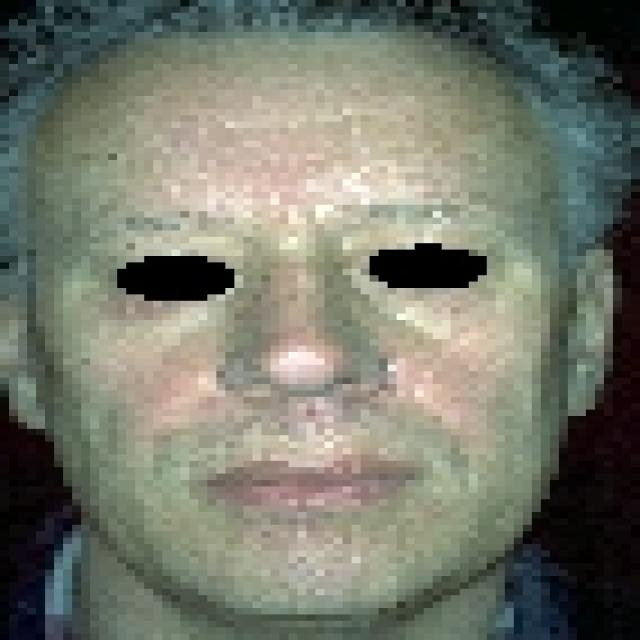lupus: (156, 323, 458, 452)
